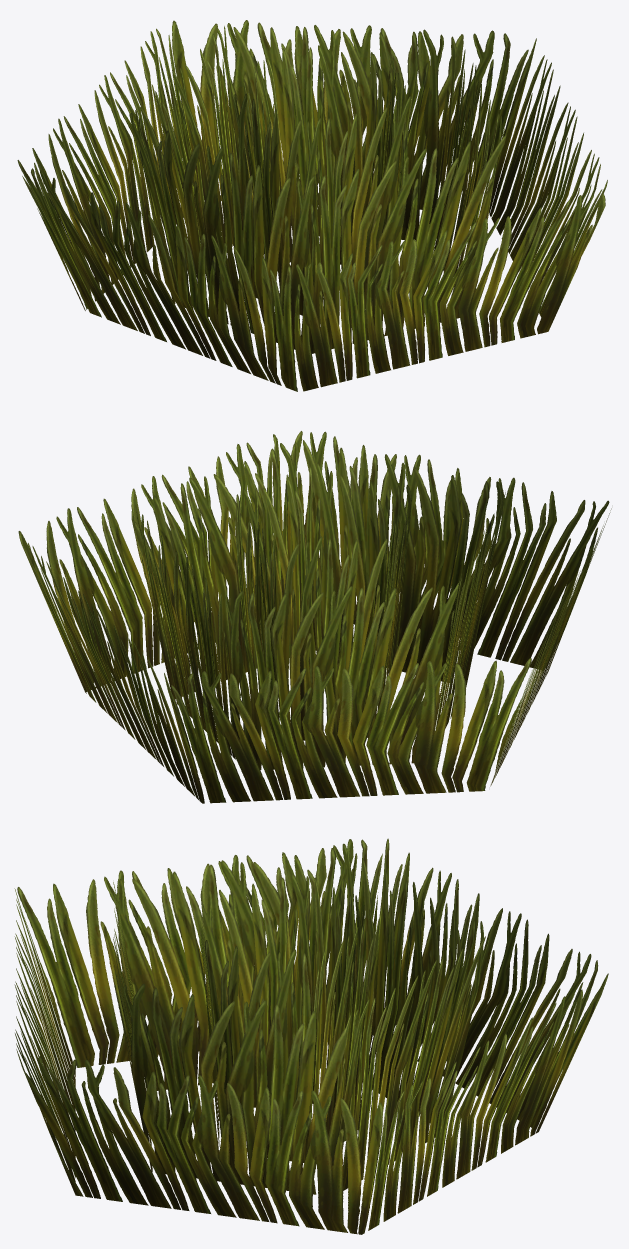
Rendered from wetlandgrass04.obj.
3 views of the same model, one above another, from view 1: azimuth 30°, elevation 25°; view 2: azimuth 150°, elevation 25°; view 3: azimuth 270°, elevation 25° (orthographic). The views are drawn at different scales.
Visible parts, largest first — view 1: wetlandgrass04; view 2: wetlandgrass04; view 3: wetlandgrass04.
Part boxes in pixels (x1,y1,x2,y2): wetlandgrass04: (17, 20, 607, 391); wetlandgrass04: (18, 431, 611, 803); wetlandgrass04: (14, 838, 608, 1234).
Size of the model in its own units: 2.04 by 0.7955 by 1.94.
1 material, 1 textured.
